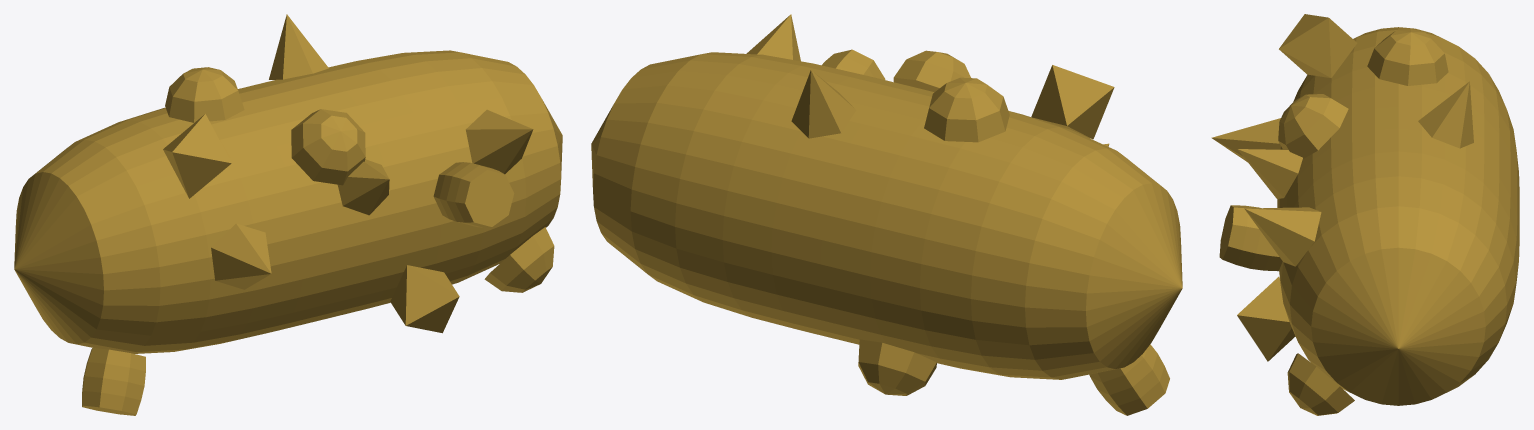
File: exp1_barrel_asym_04.glb
3 views of the same model, side by side, from view 1: azimuth 30°, elevation 25°; view 2: azimuth 150°, elevation 25°; view 3: azimuth 270°, elevation 25° (orthographic). The views are drawn at different scales.
Parts seen in each view (by area): view 1: exp1_barrel_asym_04; view 2: exp1_barrel_asym_04; view 3: exp1_barrel_asym_04.
Boxes of the visible parts, x1,y1,x2,y2 form: exp1_barrel_asym_04: (14,14,562,415); exp1_barrel_asym_04: (591,14,1182,415); exp1_barrel_asym_04: (1211,14,1519,415).
Size of the model in its own units: 3.36 by 1.77 by 1.65.
